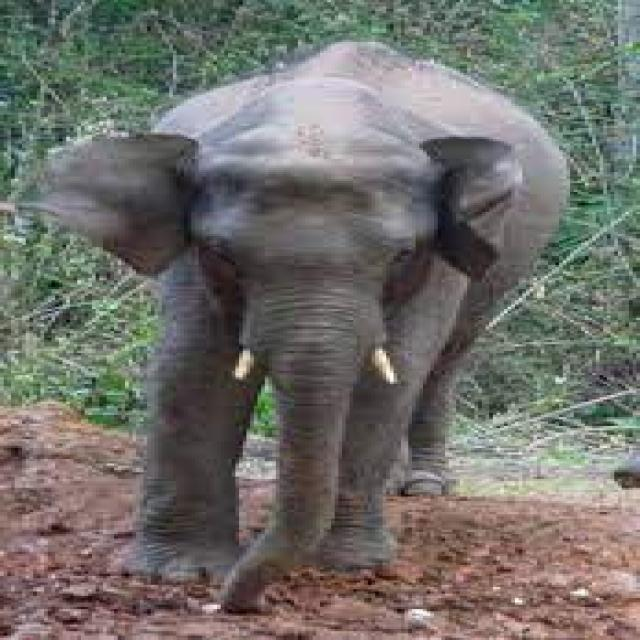Elephant: (38, 4, 584, 613)
